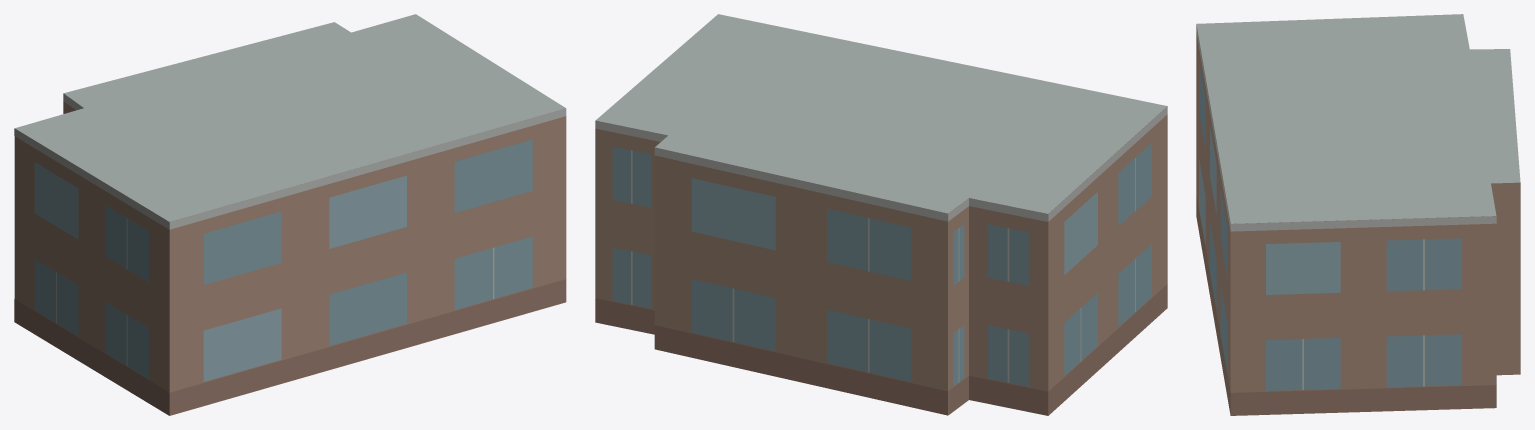
File: survey-upis-32619313.glb
3 renders of one model, left to right at view 1: azimuth 30°, elevation 25°; view 2: azimuth 150°, elevation 25°; view 3: azimuth 270°, elevation 25°, orthographic. The views are drawn at different scales.
Visible parts, largest first — view 1: survey-upis-32619313.tmp; view 2: survey-upis-32619313.tmp; view 3: survey-upis-32619313.tmp.
Part boxes in pixels (bbox=[...]): survey-upis-32619313.tmp: bbox=[14, 14, 566, 415]; survey-upis-32619313.tmp: bbox=[595, 14, 1167, 415]; survey-upis-32619313.tmp: bbox=[1196, 14, 1520, 415].
Size of the model in its own units: 14.31 by 6.1 by 9.35.
